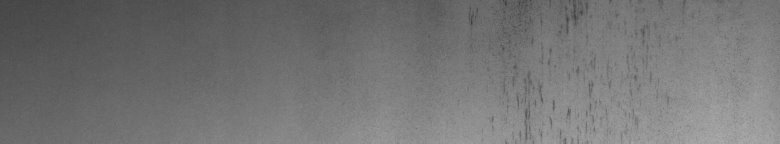ka: (465, 4, 679, 136)
